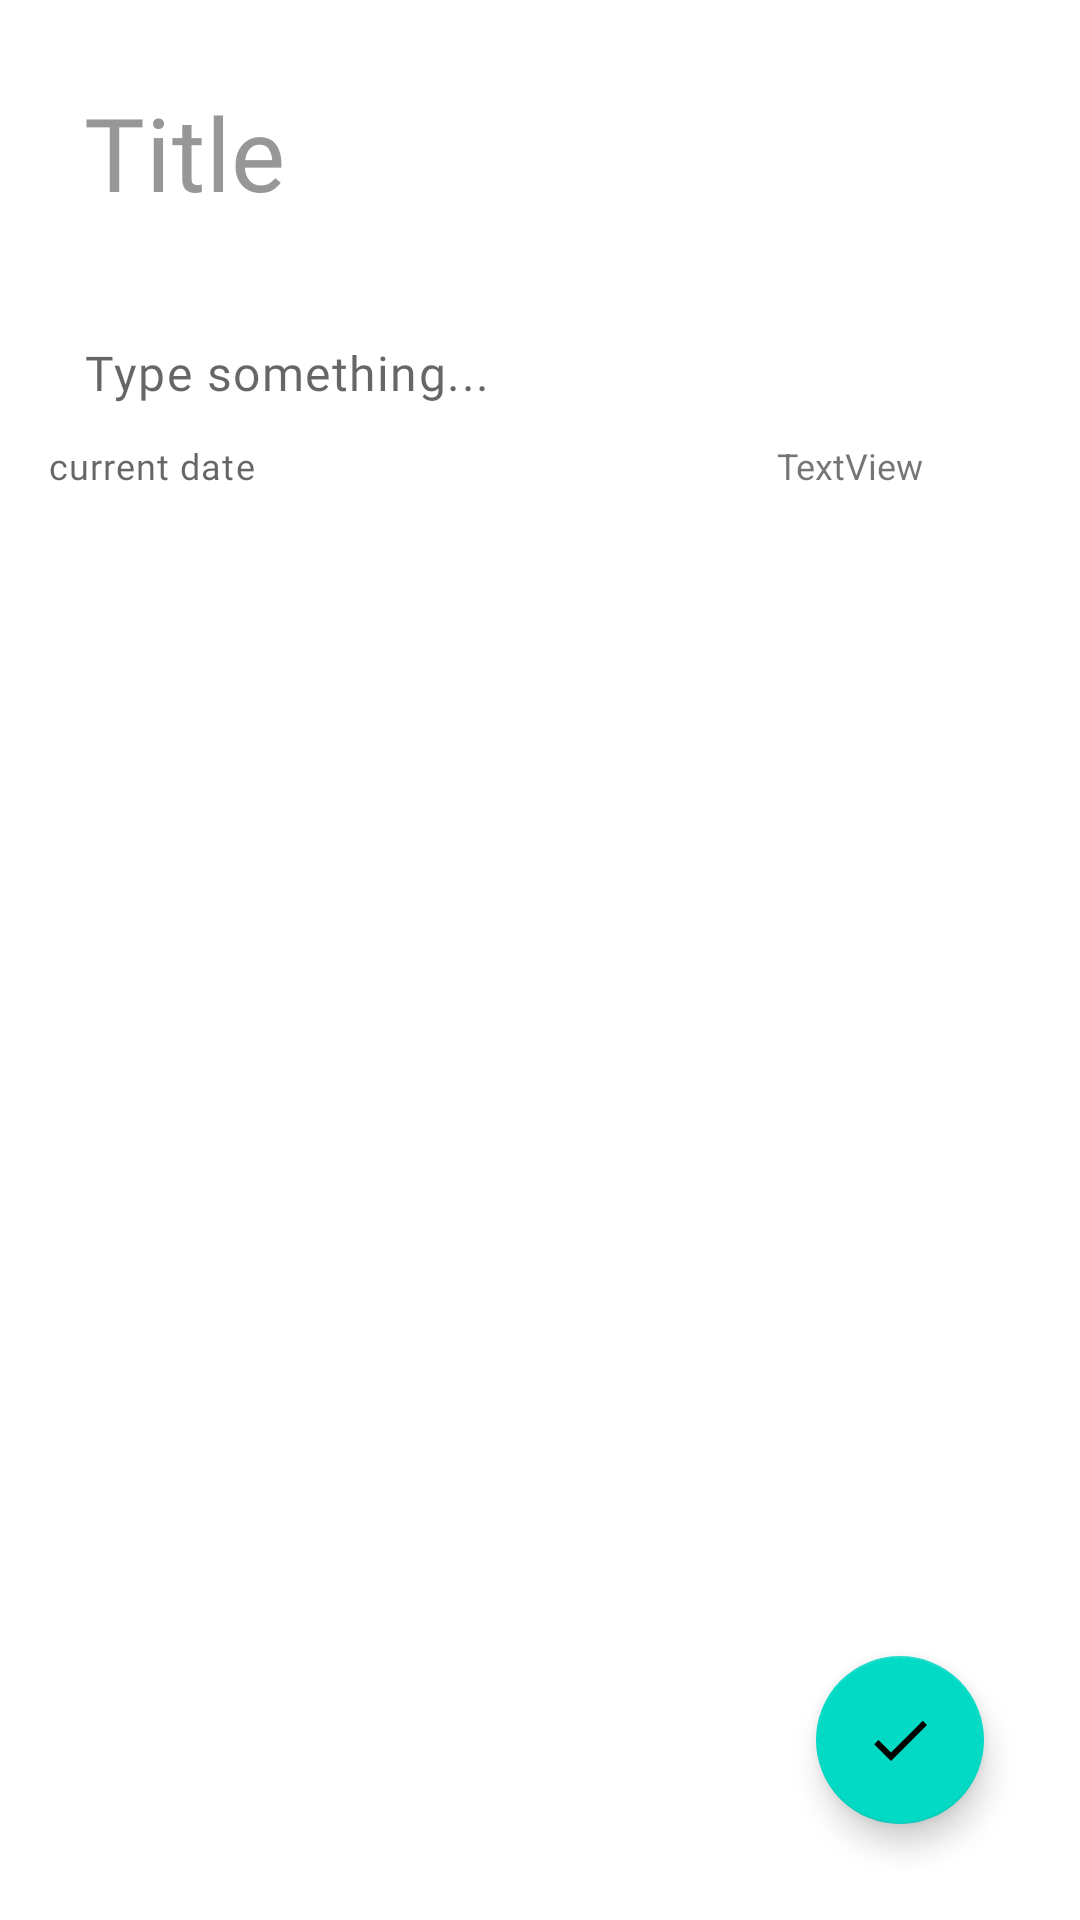

Screen size 1080x1920. Icon name, then its center in pixels as (x,y):
check: (900,1740)
